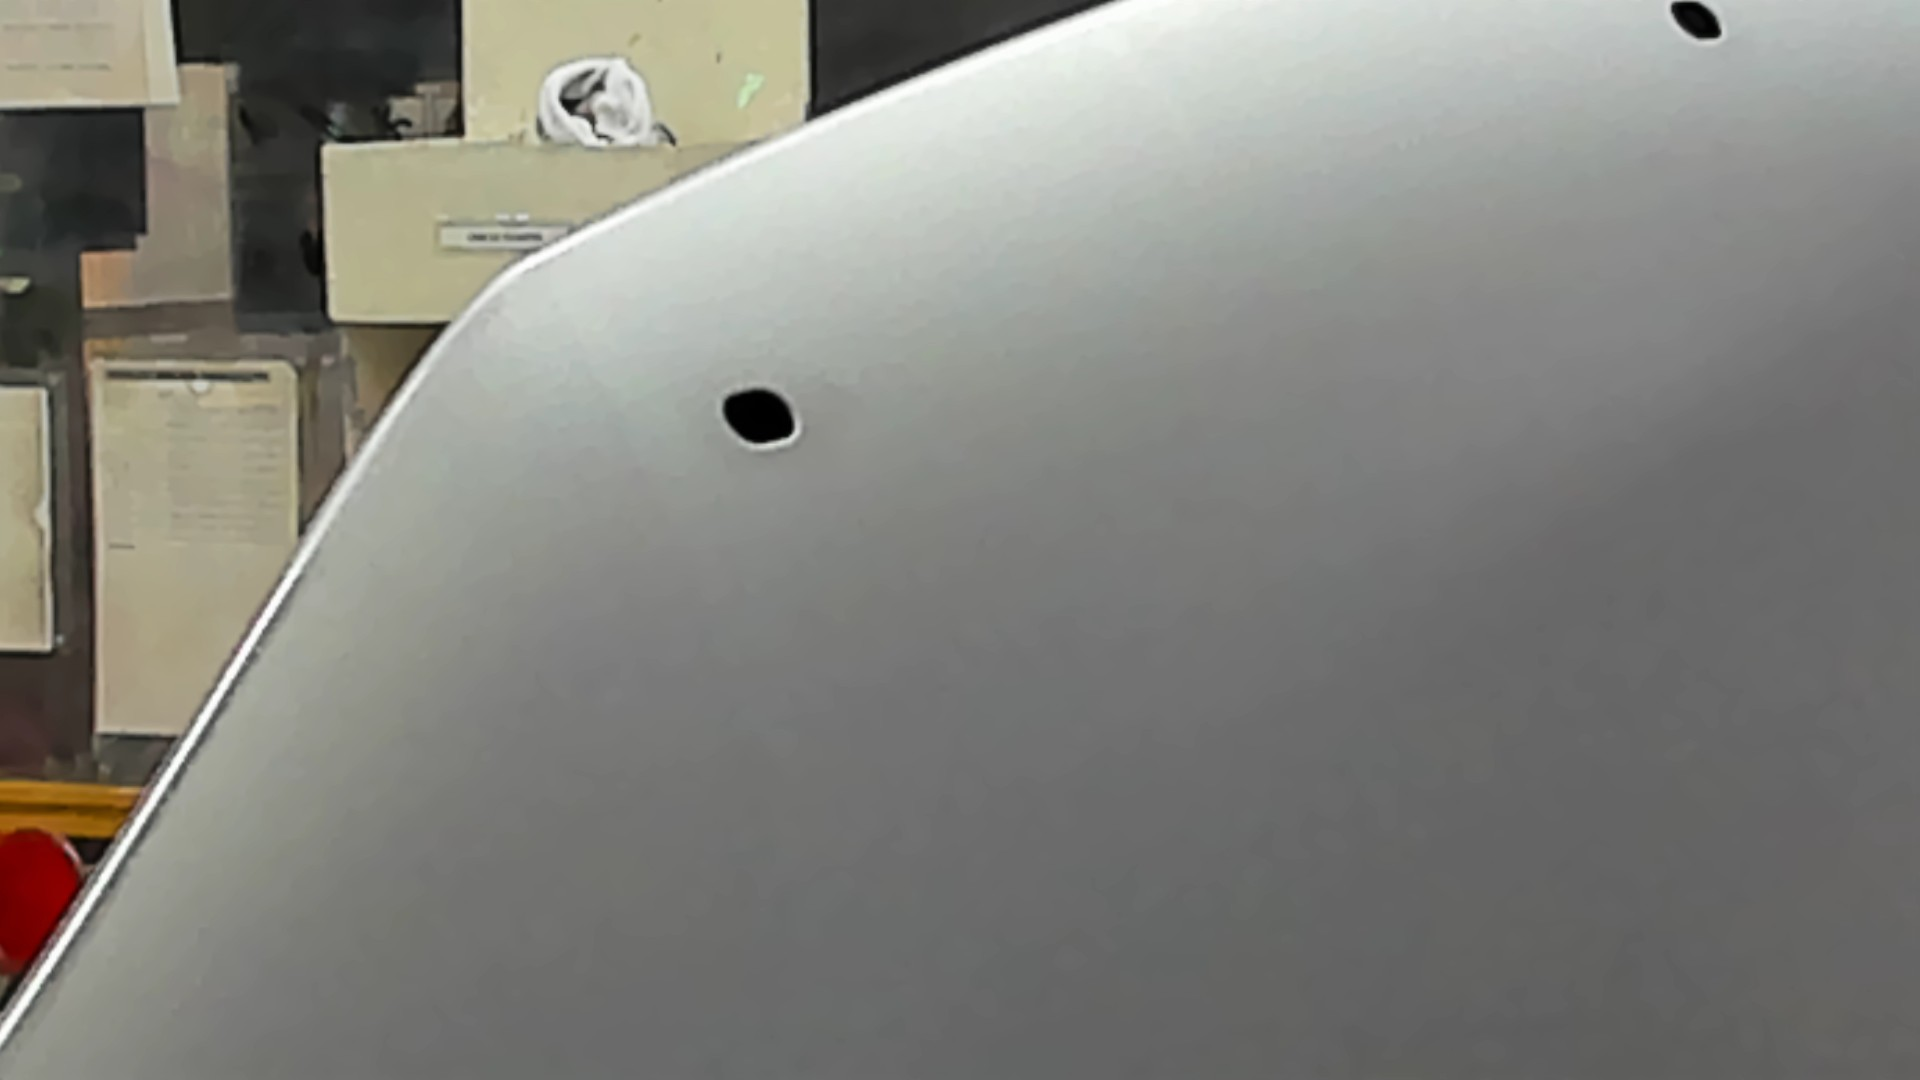chico: (705, 372, 819, 463), (1659, 1, 1738, 55)
